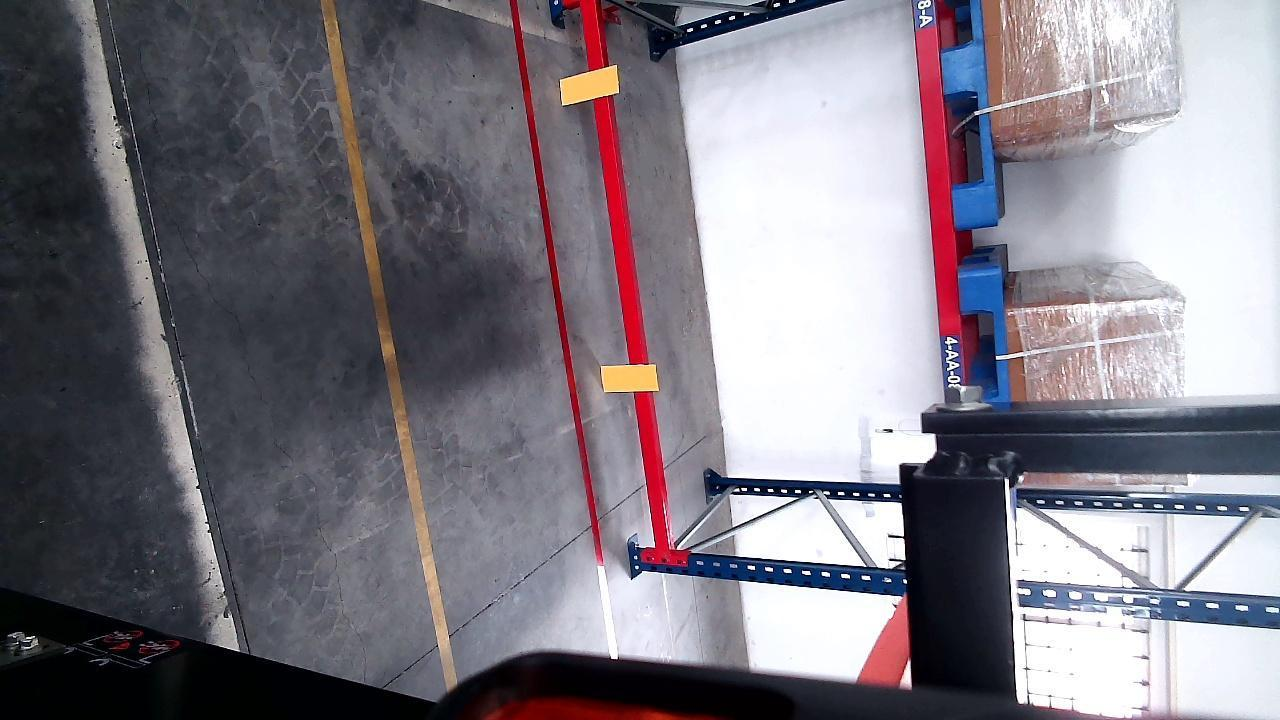h_rack: (577, 0, 671, 563), (917, 0, 962, 403)
orange_strip: (560, 65, 617, 104), (604, 363, 657, 393)
red_line: (506, 0, 618, 664)
small_pallet: (941, 0, 998, 213), (961, 266, 1007, 397)
yellow_line: (308, 0, 469, 699)
